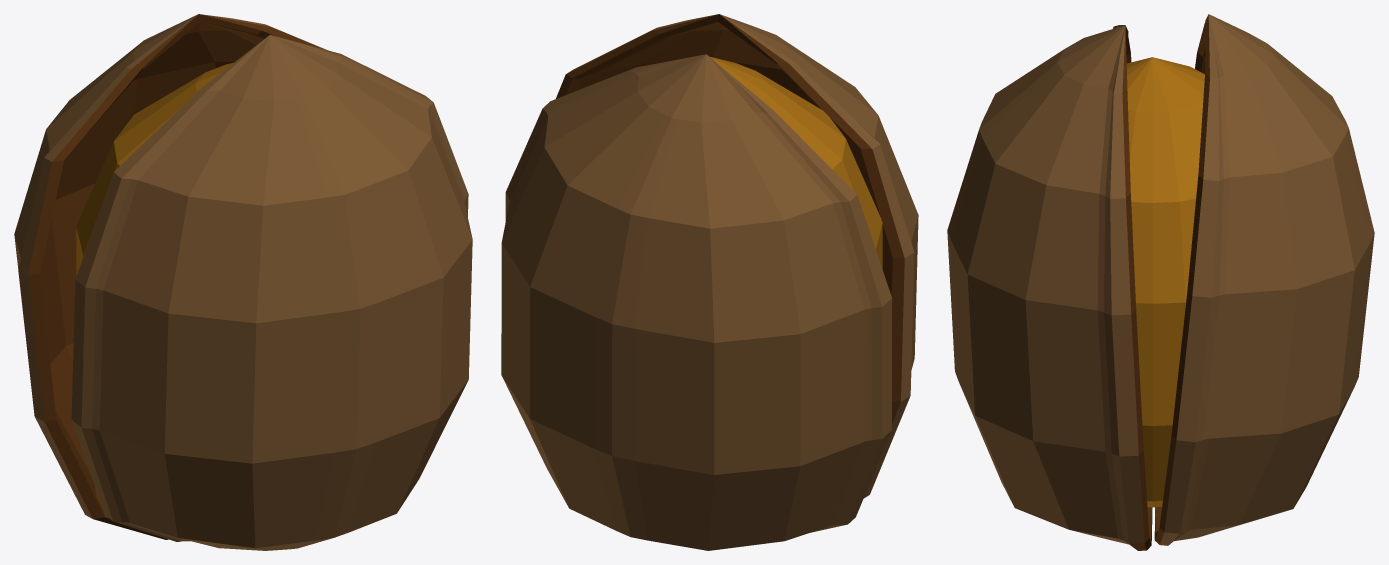
Rendered from Nut2HP.fbx.
3 views of the same model, side by side, from view 1: azimuth 30°, elevation 25°; view 2: azimuth 150°, elevation 25°; view 3: azimuth 270°, elevation 25° (orthographic).
Visible parts, largest first — view 1: 2 Life; view 2: 2 Life; view 3: 2 Life.
Part boxes in pixels (x1,y1,x2,y2): 2 Life: (14,14,472,550); 2 Life: (501,14,918,550); 2 Life: (947,14,1374,550).
Size of the model in its own units: 2.82 by 3.36 by 2.65.
